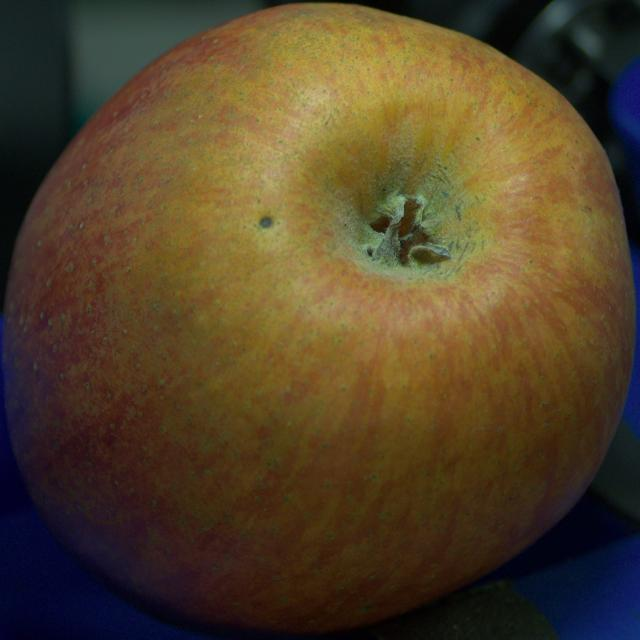apple: (1, 4, 635, 634)
pest: (259, 216, 271, 228)
